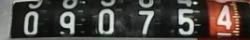digits: (176, 0, 200, 36), (21, 0, 43, 37), (136, 0, 157, 37), (57, 0, 79, 35), (96, 0, 117, 35), (216, 0, 235, 37)
